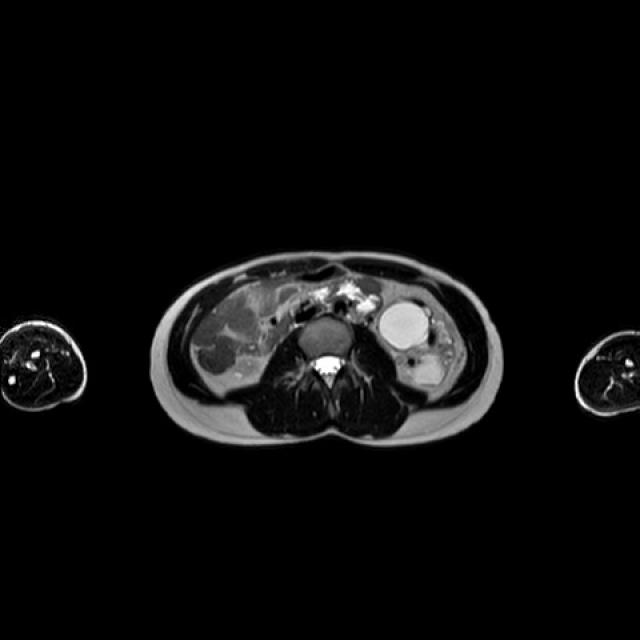sag: (233, 359, 260, 376)
sol: (372, 296, 458, 389)
